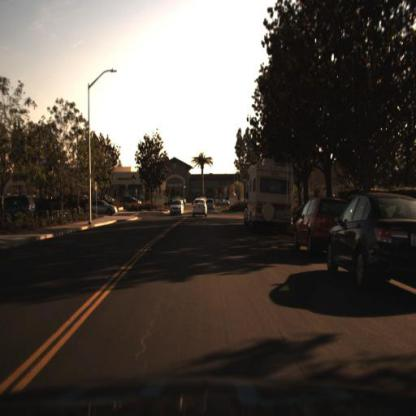car: (327, 191, 416, 287), (289, 192, 354, 260), (293, 195, 352, 255), (3, 194, 41, 219), (85, 199, 119, 217), (119, 195, 144, 211), (191, 199, 210, 219), (169, 200, 186, 217), (171, 199, 184, 220), (216, 196, 232, 209), (205, 197, 216, 213)
truck: (245, 155, 296, 228)
